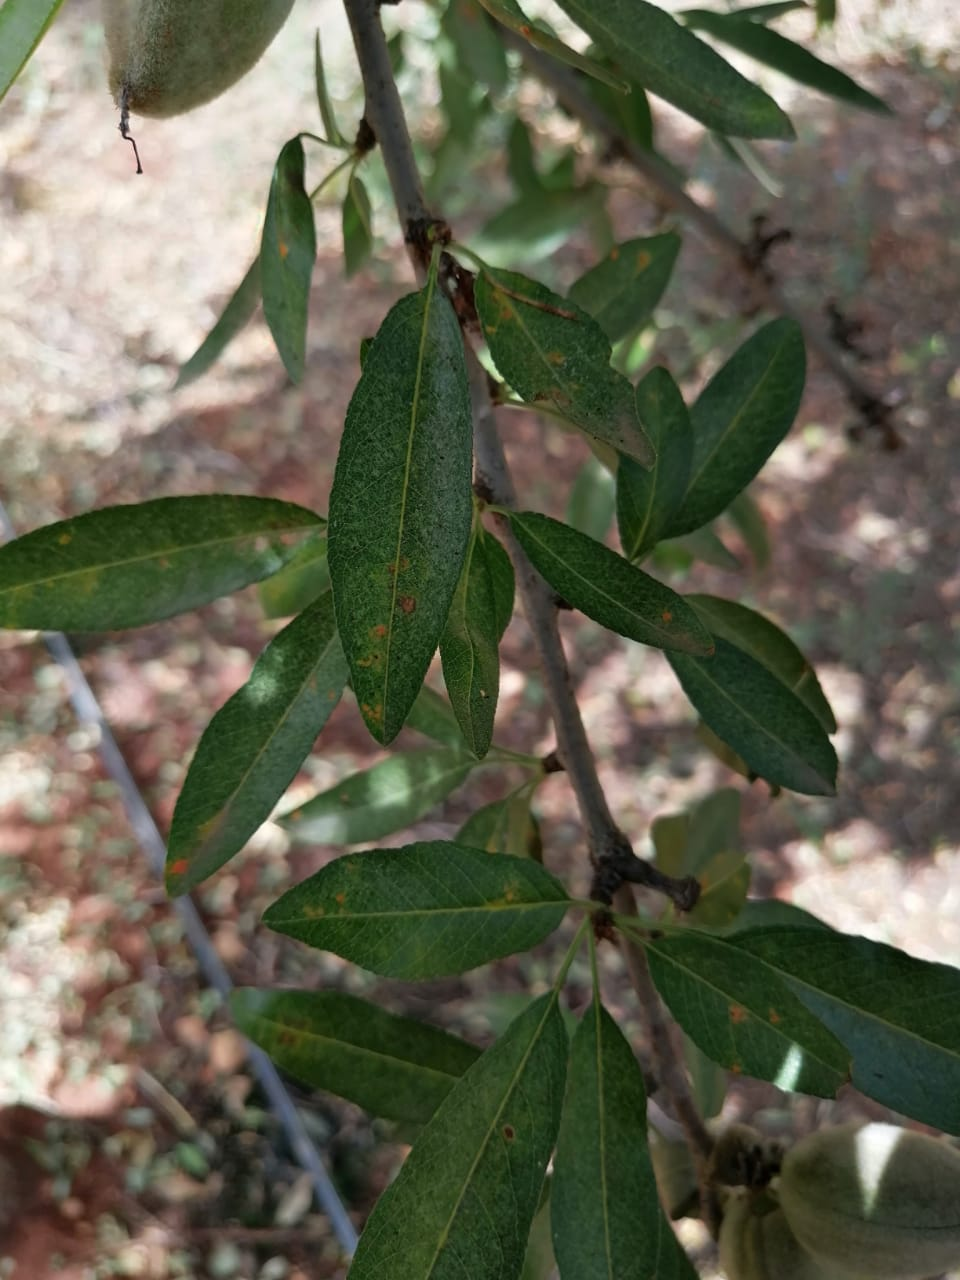acariens: (325, 280, 476, 749), (1, 492, 333, 635)
